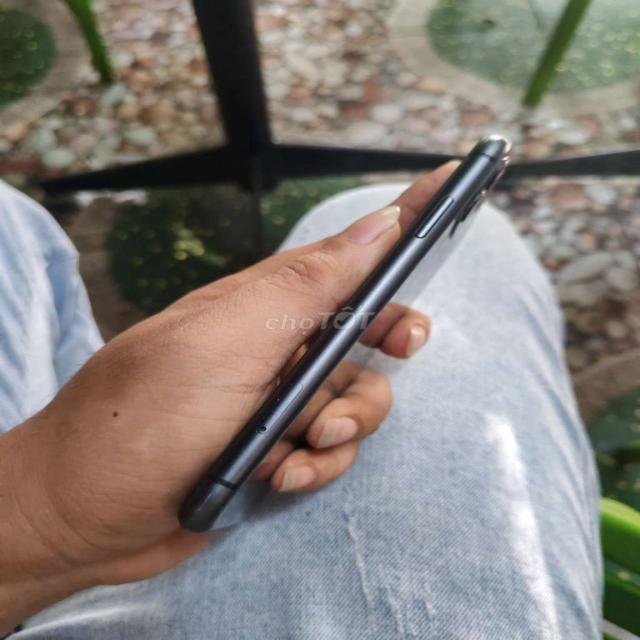scratch: (190, 490, 217, 516)
